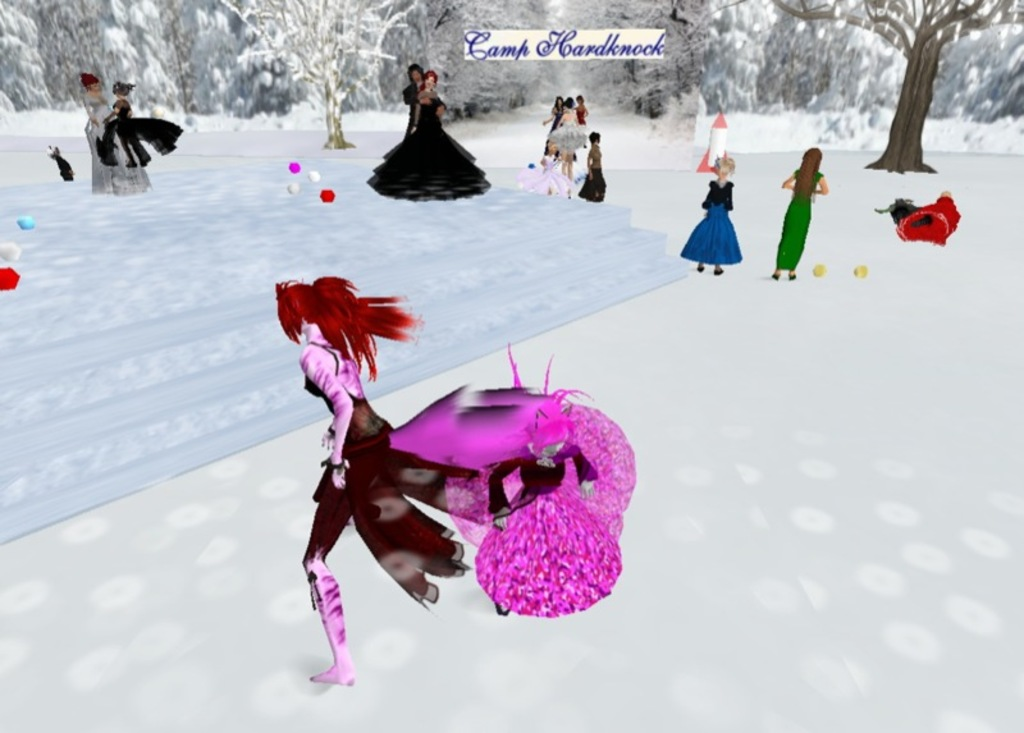Tree: (0, 0, 1024, 174)
